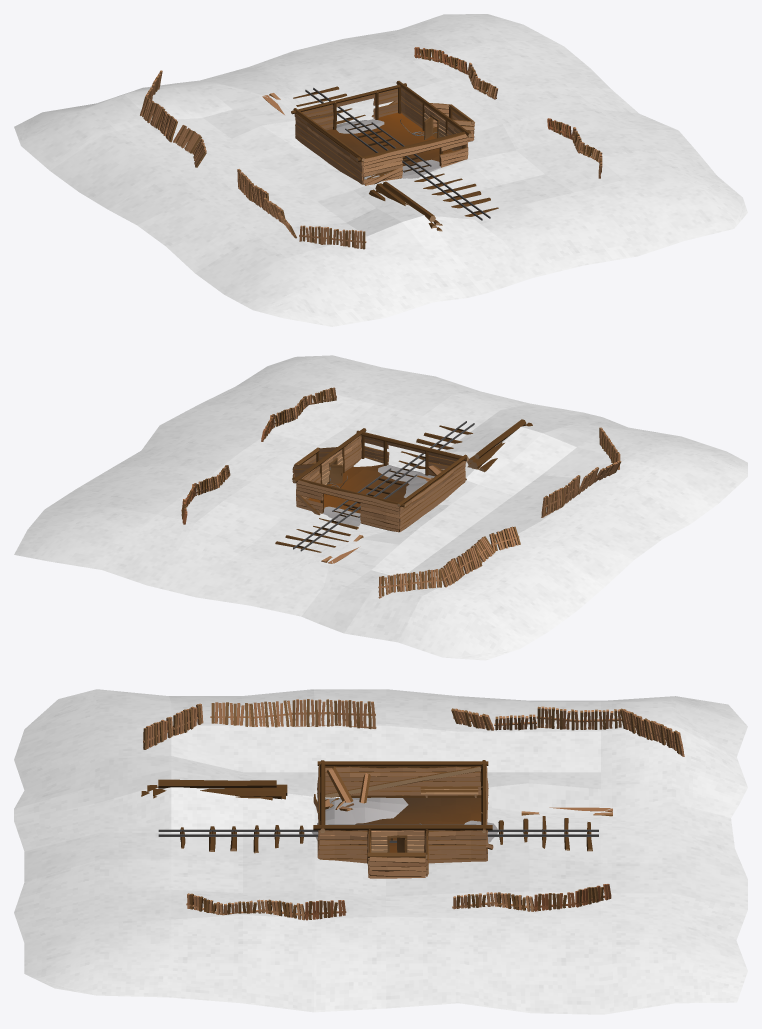
The model's file is zdanie.fbx.
3 renders of one model, top to bottom at view 1: azimuth 30°, elevation 25°; view 2: azimuth 150°, elevation 25°; view 3: azimuth 270°, elevation 25°, orthographic. The views are drawn at different scales.
Visible parts, largest first — view 1: polySurface428; view 2: polySurface428; view 3: polySurface428, polySurface427.
Boxes of the visible parts, bbox=[...] form: polySurface428: bbox=[14, 14, 747, 326]; polySurface428: bbox=[14, 355, 747, 660]; polySurface428: bbox=[14, 689, 747, 1014]; polySurface427: bbox=[158, 779, 276, 788].
Bounding box in the file's own units: 57.78 × 5.43 × 57.27.
Materials: 2 (2 with a texture image).
